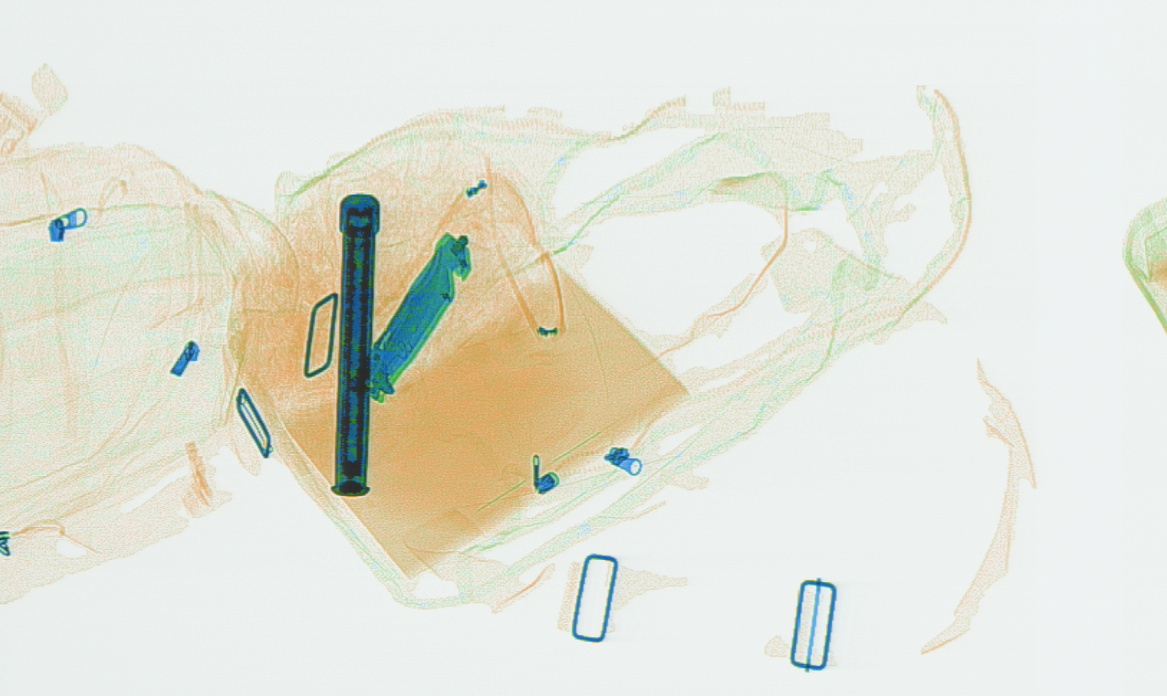knife: (349, 232, 472, 402)
